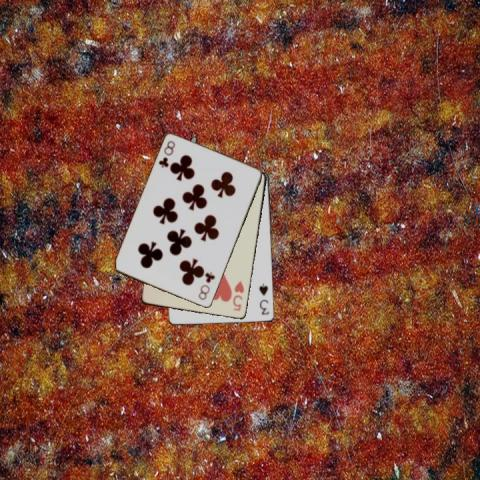3s: (256, 281, 270, 316)
5h: (230, 278, 246, 313)
8c: (195, 270, 217, 302), (156, 138, 177, 169)
